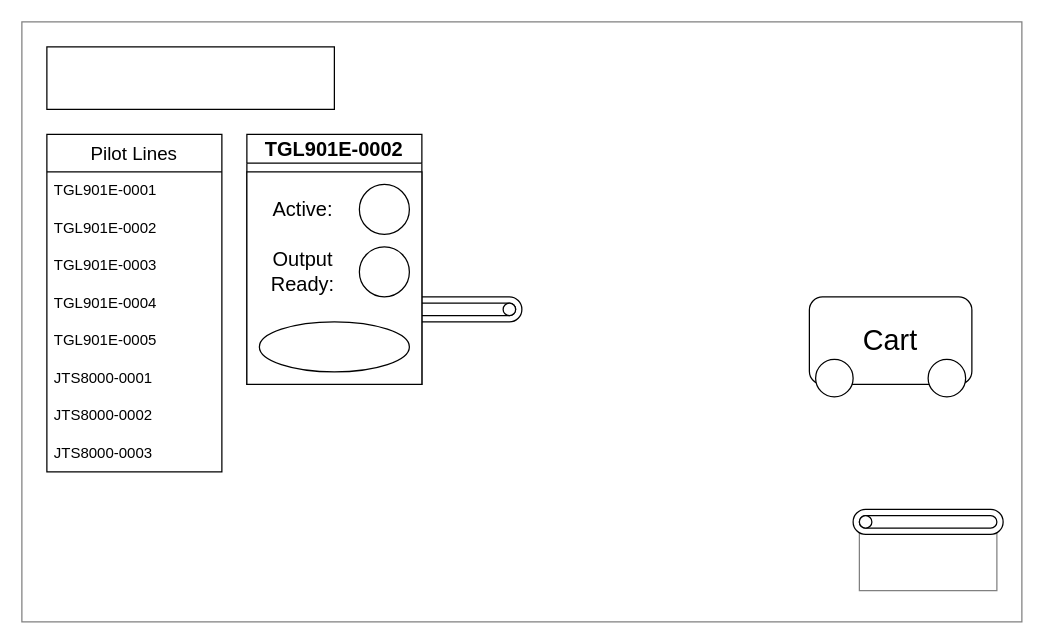
The diagram is 1044 pixels wide and 644 high, and some of its shapes have lost their labels. The centre of each missing label's shape, as x and y in pixels:
AMHS Base Station: point 190,77
Retrieve: point 333,346
